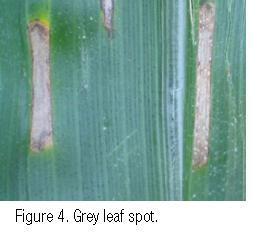Corn Gray leaf spot: (1, 2, 246, 200)
